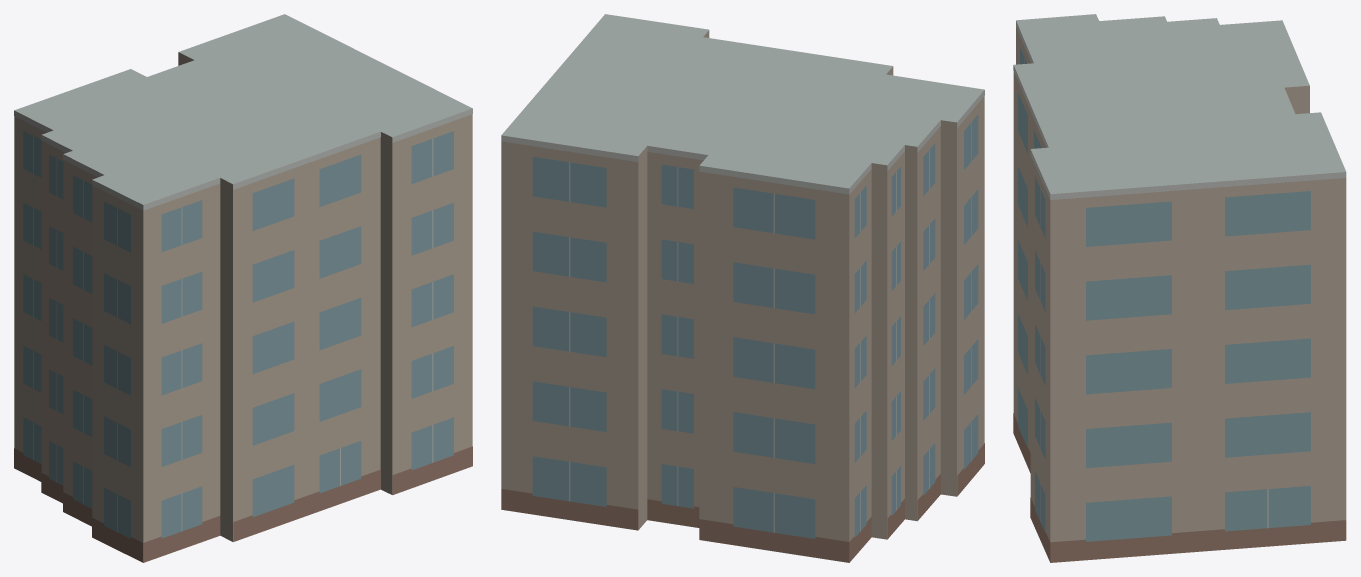
Rendered from survey-upis-32970526.glb.
3 views of the same model, side by side, from view 1: azimuth 30°, elevation 25°; view 2: azimuth 150°, elevation 25°; view 3: azimuth 270°, elevation 25° (orthographic). The views are drawn at different scales.
Visible parts, largest first — view 1: survey-upis-32970526.tmp; view 2: survey-upis-32970526.tmp; view 3: survey-upis-32970526.tmp.
Boxes of the visible parts, left/top/right/bottom form: survey-upis-32970526.tmp: left=14, top=14, right=472, bottom=562; survey-upis-32970526.tmp: left=501, top=14, right=984, bottom=562; survey-upis-32970526.tmp: left=1013, top=14, right=1346, bottom=562.
Bounding box in the file's own units: 16.16 × 15.4 × 12.62.
